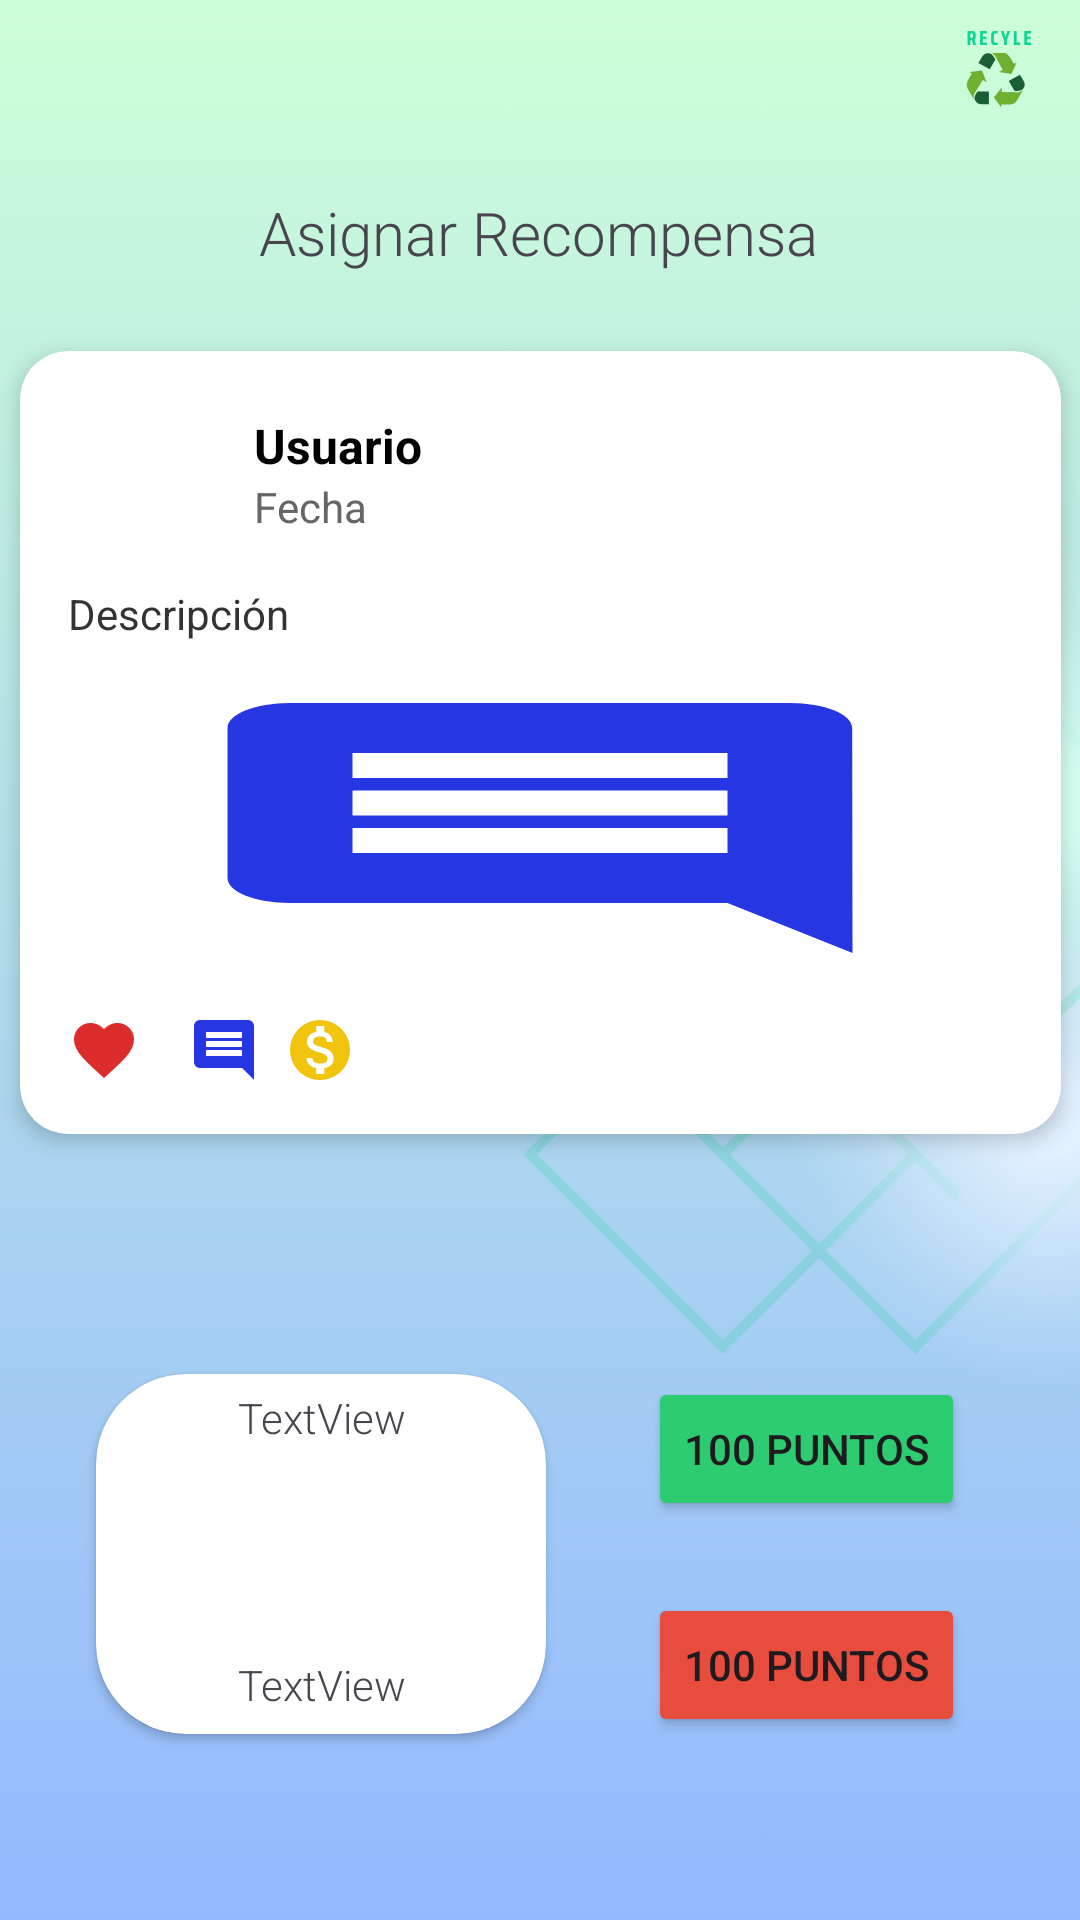

Named icons in this screenshot (1080 x 1920) and their bounding boxes, [x1, y1, x2, y2]:
favorite: [74, 1023, 134, 1078]
monetization on: [290, 1020, 350, 1080]
